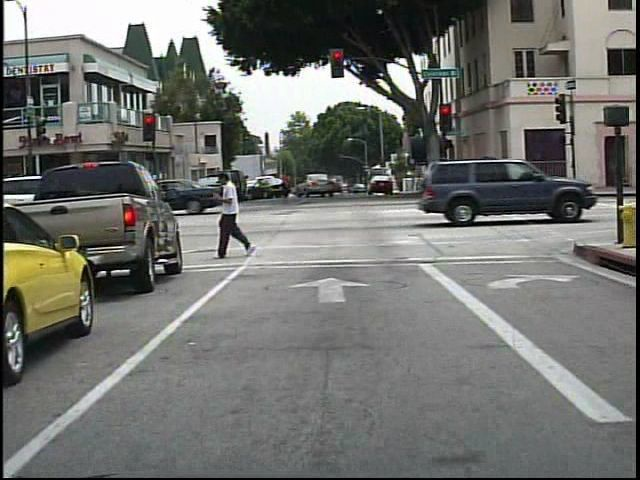person: (213, 167, 257, 261), (277, 164, 296, 207)
